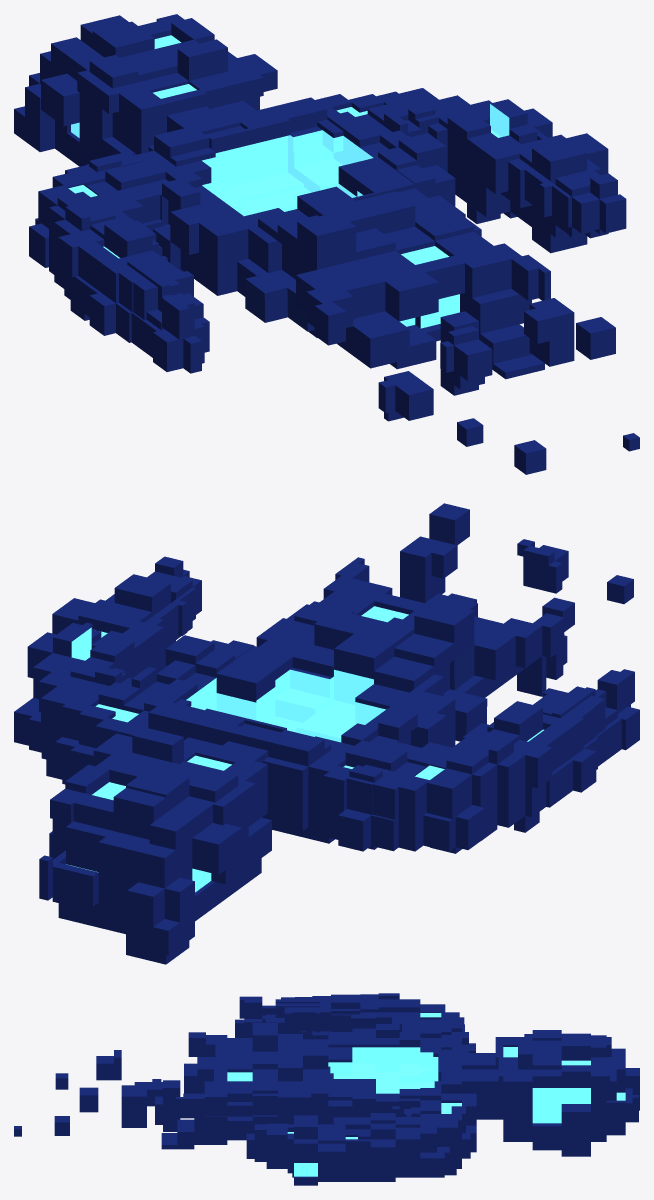
Rendered from enemyBotModel.fbx.
3 views of the same model, one above another, from view 1: azimuth 30°, elevation 25°; view 2: azimuth 150°, elevation 25°; view 3: azimuth 270°, elevation 25° (orthographic). The views are drawn at different scales.
Visible parts, largest first — view 1: Cube.001; view 2: Cube.001; view 3: Cube.001.
Part boxes in pixels (x1=…): Cube.001: x1=14, y1=14, x2=639, y2=474; Cube.001: x1=14, y1=503, x2=639, y2=964; Cube.001: x1=14, y1=993, x2=639, y2=1185.
Bounding box in the file's own units: 228 × 73.87 × 378.
